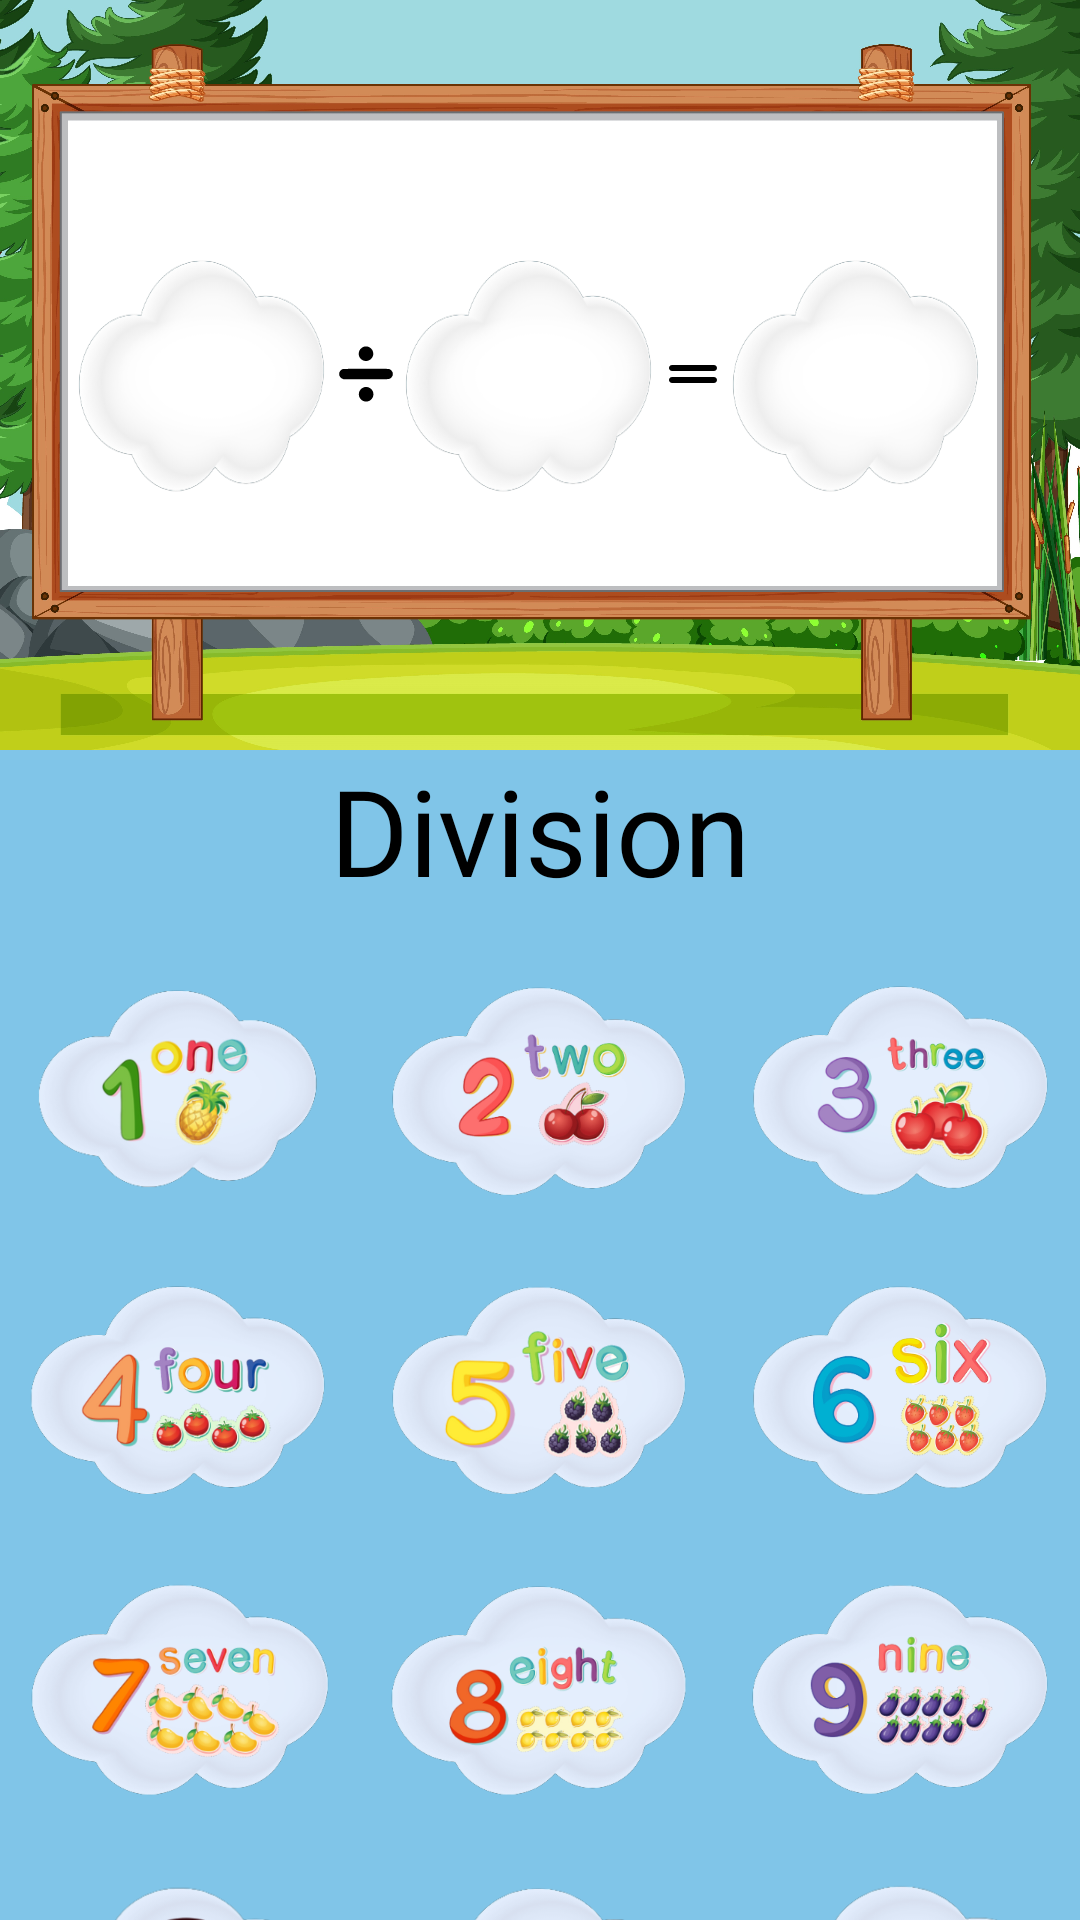

Icon click points for this 1080px×1920px phone screenshot, format [x,y]:
divide: [366,374]
math equal: [693,374]
